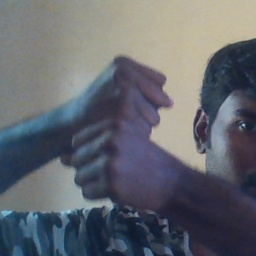G: (63, 50, 177, 208)
